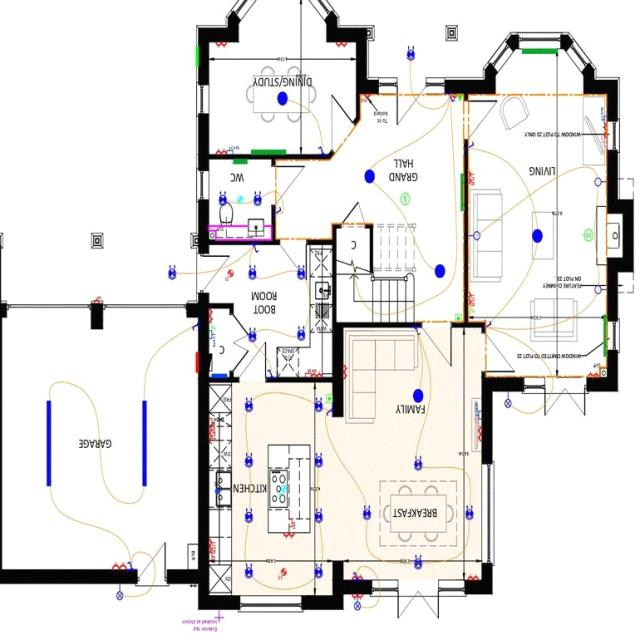BT Entry Point: (459, 96, 464, 102)
Cat 6 Data Socket: (601, 108, 608, 126), (227, 147, 241, 156), (210, 331, 217, 348)
Ceiling Mounted Continuous Extract FanWith Boost Mode Activated By Light Switch: (238, 197, 244, 204)
Ceiling Mounted Continuous Extract FanWith Local Boost Switch: (279, 569, 288, 581), (226, 270, 234, 283), (306, 369, 312, 378)
Co-Ax TV Socket: (602, 136, 608, 148)
Consumer Unit: (210, 354, 213, 372)
Double Socket: (113, 563, 127, 571), (477, 427, 483, 443), (216, 149, 228, 156), (468, 575, 479, 582), (352, 575, 364, 581), (588, 372, 600, 378), (216, 43, 228, 49), (284, 534, 296, 540), (344, 366, 349, 380), (337, 43, 348, 49), (352, 595, 364, 600), (604, 125, 608, 139), (210, 310, 214, 323)
Electric Meter Box: (196, 352, 200, 374)
External Wall Light: (117, 585, 124, 602), (505, 393, 512, 409), (355, 599, 361, 612)
Fused spur: (362, 95, 371, 104)
Gas Meter Box: (197, 46, 199, 68)
Hob Switch: (290, 520, 297, 531)
Internal Wall Light: (595, 286, 608, 295), (469, 232, 481, 241), (595, 179, 607, 187)
Light Switch: (318, 147, 325, 156), (192, 323, 199, 332), (268, 370, 275, 379), (253, 246, 260, 254), (353, 572, 359, 581), (468, 142, 474, 151), (128, 562, 134, 571), (327, 409, 333, 417), (450, 95, 456, 103), (486, 322, 493, 328), (416, 329, 422, 336), (276, 208, 283, 214)
Low Energy Downlighter: (168, 265, 178, 281), (254, 192, 264, 207), (363, 505, 372, 521), (315, 564, 324, 580), (315, 508, 324, 524), (415, 456, 424, 472), (407, 46, 416, 62), (297, 265, 306, 281), (249, 328, 258, 344), (245, 453, 254, 469), (415, 555, 424, 570), (466, 506, 475, 521), (219, 192, 228, 207), (298, 326, 306, 342), (246, 508, 254, 524), (246, 564, 254, 580), (249, 266, 257, 281), (246, 398, 254, 413), (316, 453, 323, 469), (316, 398, 323, 414)
Low Energy Pendant Light: (413, 390, 425, 404), (278, 92, 289, 106), (365, 170, 376, 184), (533, 230, 544, 243), (436, 265, 446, 279)
Mains Wired Smoke Detector: (402, 194, 411, 206)
Outside Socket: (95, 297, 102, 305)
Outside Tap: (216, 611, 226, 623)
Programmable Room Thermostat: (456, 315, 463, 323), (327, 396, 333, 404)
Radiator: (523, 49, 558, 55), (252, 150, 287, 156), (604, 316, 608, 357), (462, 175, 466, 212), (234, 160, 248, 164)
Recirculating Extractor Fan: (279, 486, 288, 497)
Single Socket: (453, 96, 458, 102)
Telephone Socket: (210, 323, 216, 332), (469, 308, 475, 315)
Twin LED Strip Light: (143, 401, 147, 488), (48, 402, 52, 487)
USB Double Socket: (469, 171, 477, 187), (210, 428, 217, 442), (210, 540, 217, 554), (469, 292, 475, 308), (312, 370, 322, 379)
Underfloor Heating Manifold: (213, 374, 228, 379)
Water Entry Position: (216, 489, 222, 495)
